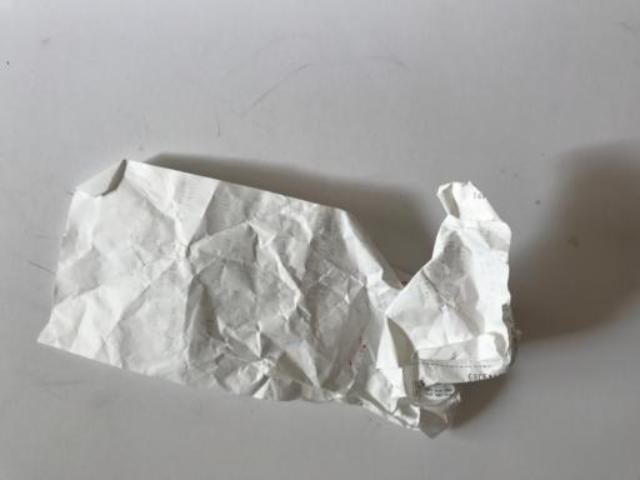cardboard paper: (36, 159, 511, 430)
